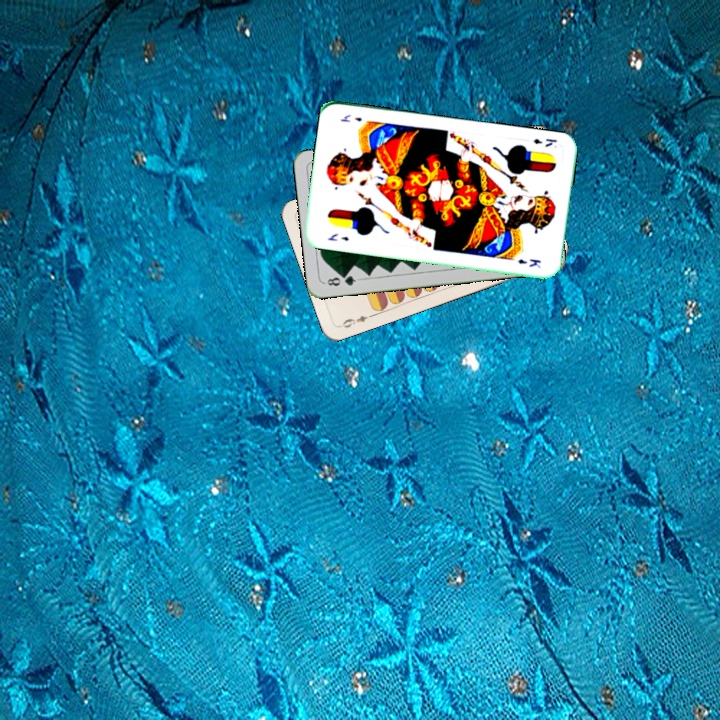E9: (336, 310, 375, 330)
EK: (529, 134, 559, 149), (323, 229, 351, 244)
G8: (321, 271, 362, 289)
